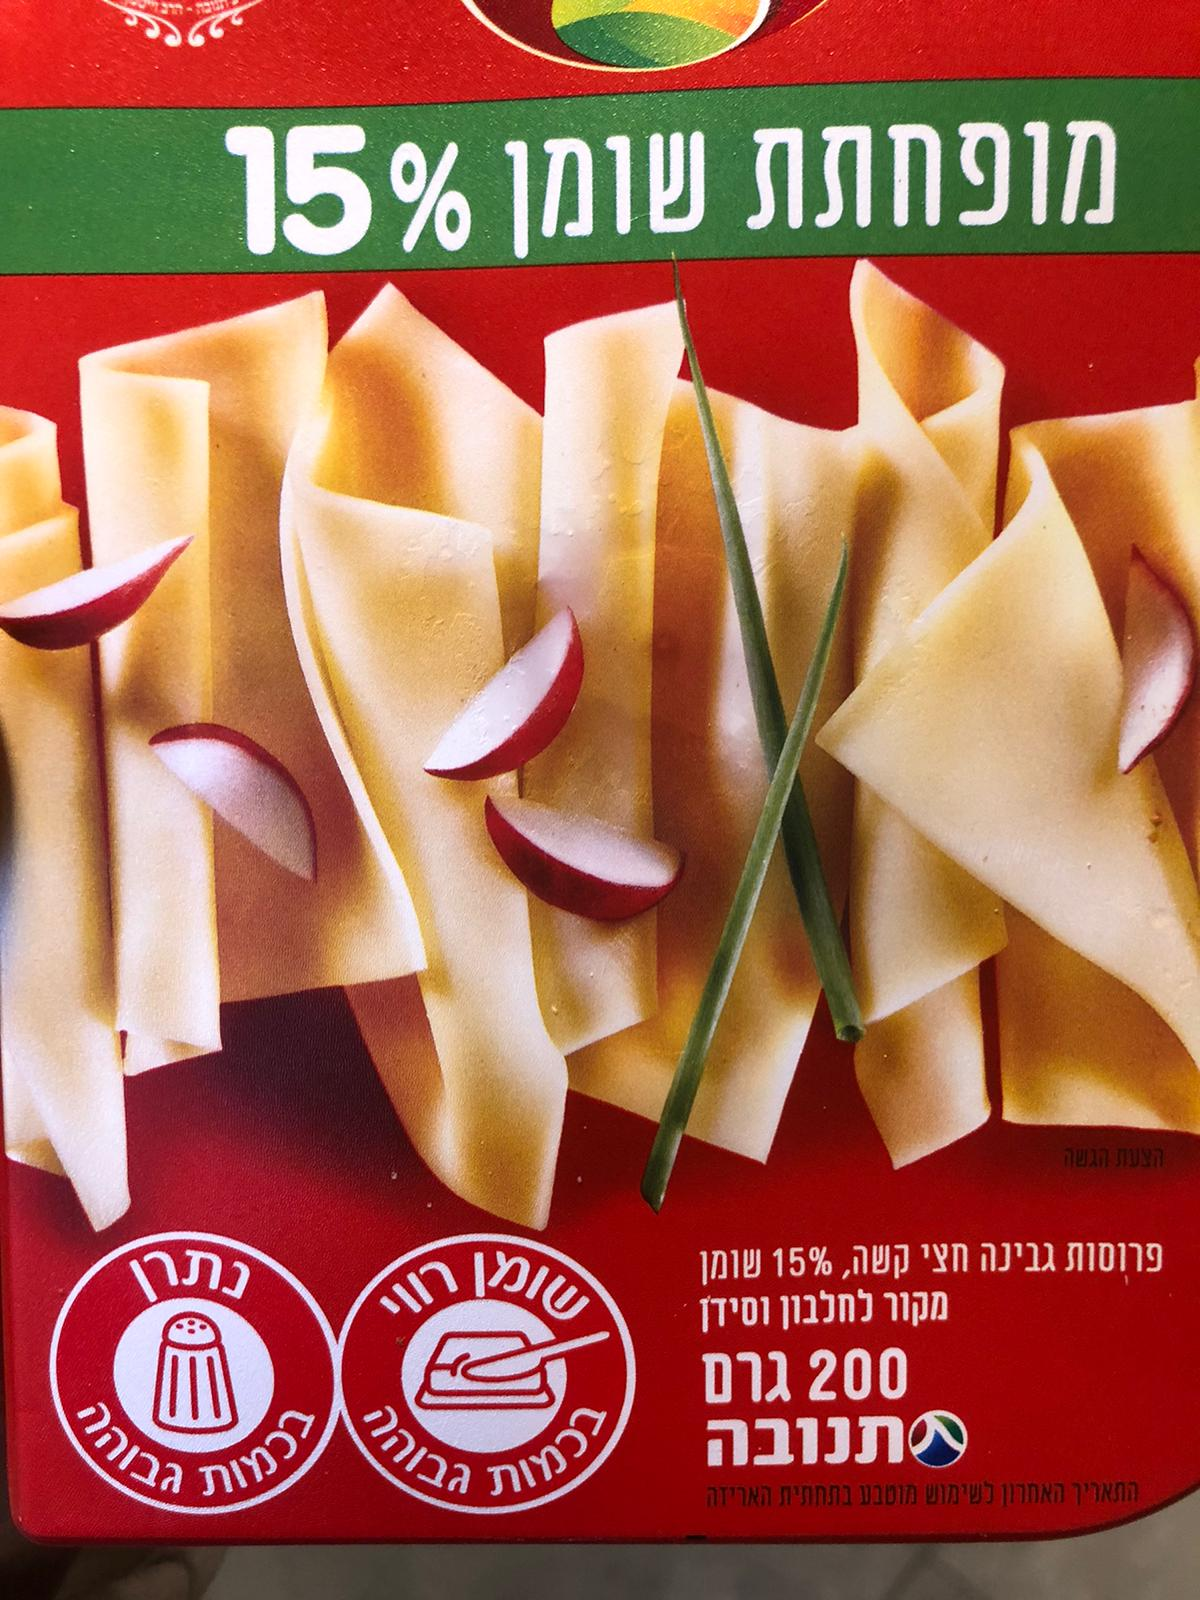fat: (334, 1231, 637, 1518)
salt: (47, 1233, 344, 1516)
